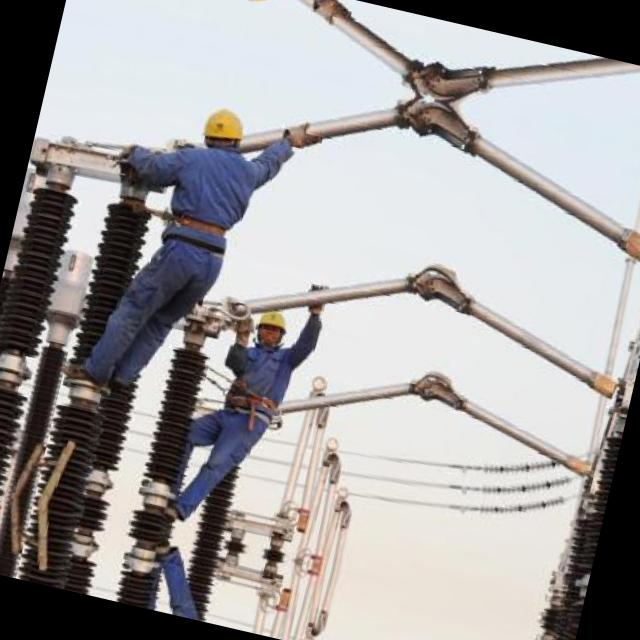helmet: (196, 99, 251, 160), (248, 306, 292, 349), (229, 0, 281, 14)
